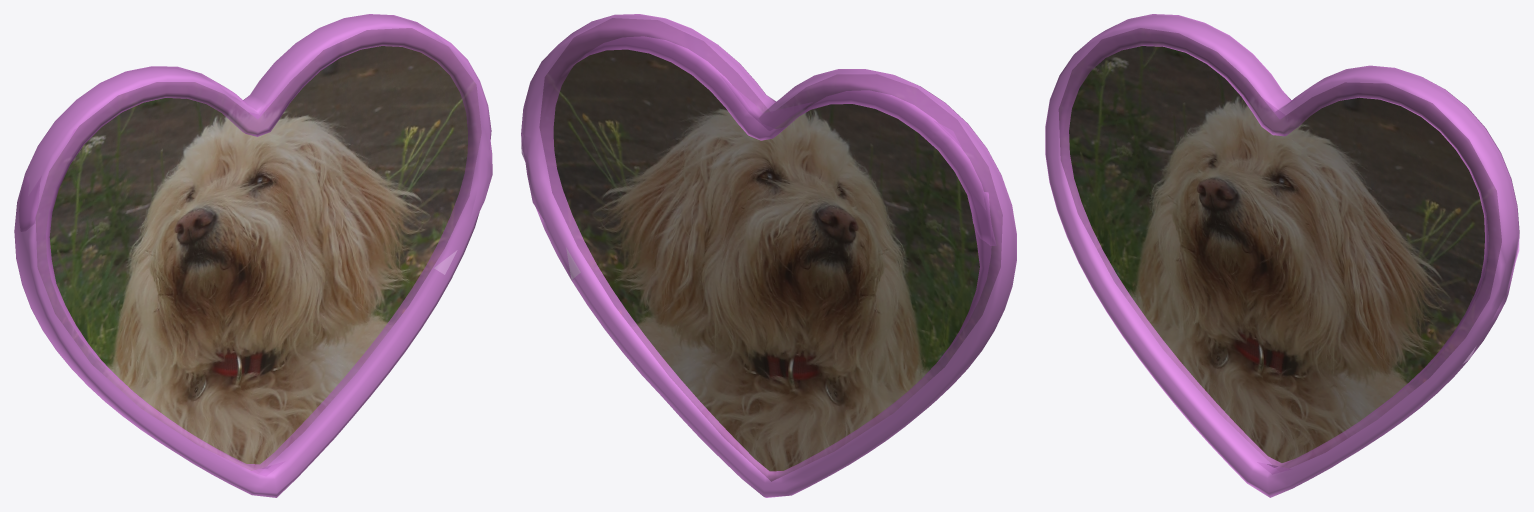
Rendered from paula3d.glb.
The picture shows the model from 3 angles, left to right: view 1: azimuth 30°, elevation 25°; view 2: azimuth 150°, elevation 25°; view 3: azimuth 330°, elevation 25°; orthographic projection. The views are drawn at different scales.
Visible parts, largest first — view 1: NurbsPath, verre_verre_0.001; view 2: NurbsPath, verre_verre_0.001; view 3: NurbsPath, verre_verre_0.001.
Part boxes in pixels (bbox=[...]): NurbsPath: bbox=[36, 28, 481, 470]; verre_verre_0.001: bbox=[14, 14, 492, 497]; NurbsPath: bbox=[539, 18, 1002, 481]; verre_verre_0.001: bbox=[521, 14, 1016, 497]; NurbsPath: bbox=[1059, 28, 1501, 467]; verre_verre_0.001: bbox=[1045, 14, 1519, 497].
Size of the model in its own units: 0.6703 by 0.6049 by 0.0816.
Materials: 2 (1 with a texture image).
